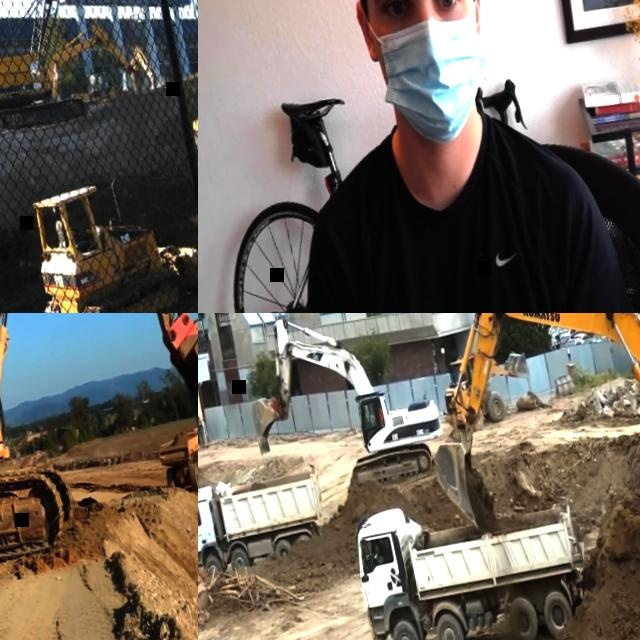Mask: (353, 0, 498, 155)
NO-Hardhat: (375, 542, 380, 546), (372, 407, 376, 411), (198, 415, 200, 419)
NO-Safety Vest: (305, 104, 598, 313), (374, 414, 380, 428), (378, 551, 385, 561), (198, 420, 202, 430), (198, 514, 201, 523)
Person: (228, 0, 640, 313), (362, 407, 381, 441), (373, 541, 386, 564), (198, 414, 205, 443), (198, 508, 201, 527)
machinery: (404, 313, 640, 560), (0, 313, 198, 588), (350, 476, 600, 640), (237, 313, 450, 502), (29, 165, 198, 313), (0, 9, 163, 137), (198, 465, 330, 576), (439, 344, 537, 429), (155, 416, 198, 493)
vehicle: (549, 323, 569, 341), (559, 333, 576, 346), (575, 331, 591, 343), (566, 335, 583, 345), (583, 336, 597, 344)
